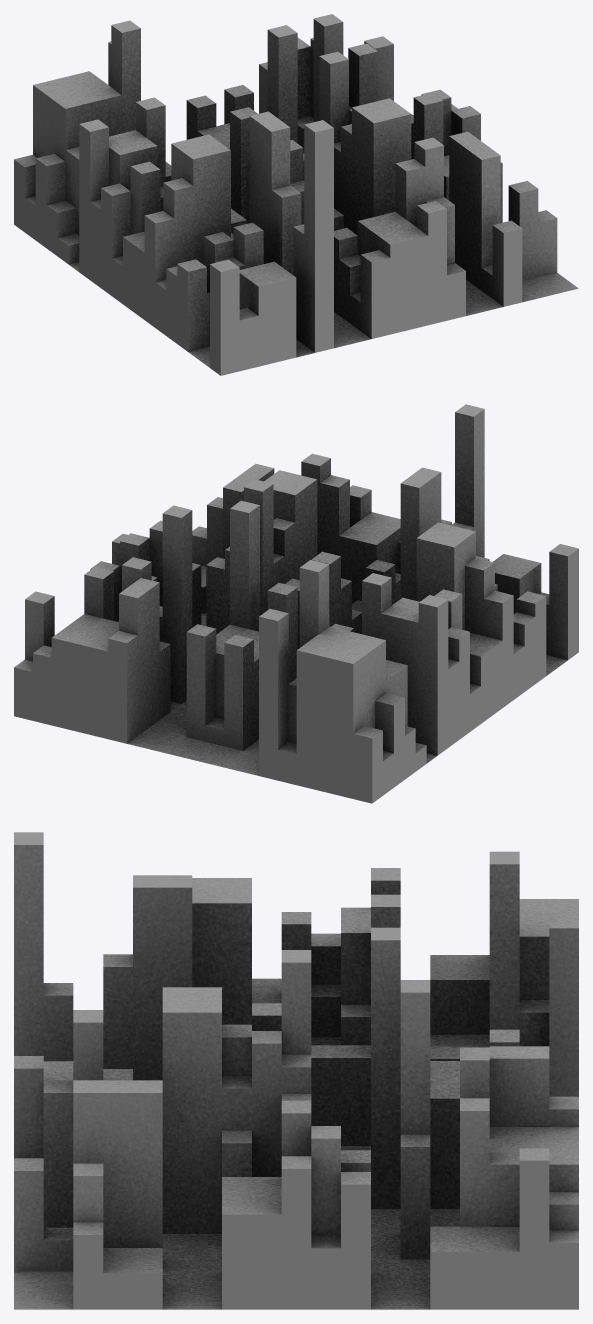
Rendered from city.obj.
3 renders of one model, top to bottom at view 1: azimuth 30°, elevation 25°; view 2: azimuth 150°, elevation 25°; view 3: azimuth 270°, elevation 25°, orthographic. The views are drawn at different scales.
Visible parts, largest first — view 1: Grid_Grid.001; view 2: Grid_Grid.001; view 3: Grid_Grid.001.
Boxes of the visible parts, x1,y1,x2,y2 form: Grid_Grid.001: [14, 14, 578, 375]; Grid_Grid.001: [14, 404, 578, 803]; Grid_Grid.001: [14, 832, 578, 1309].
Size of the model in its own units: 180 by 106 by 180.
1 material, 1 textured.
